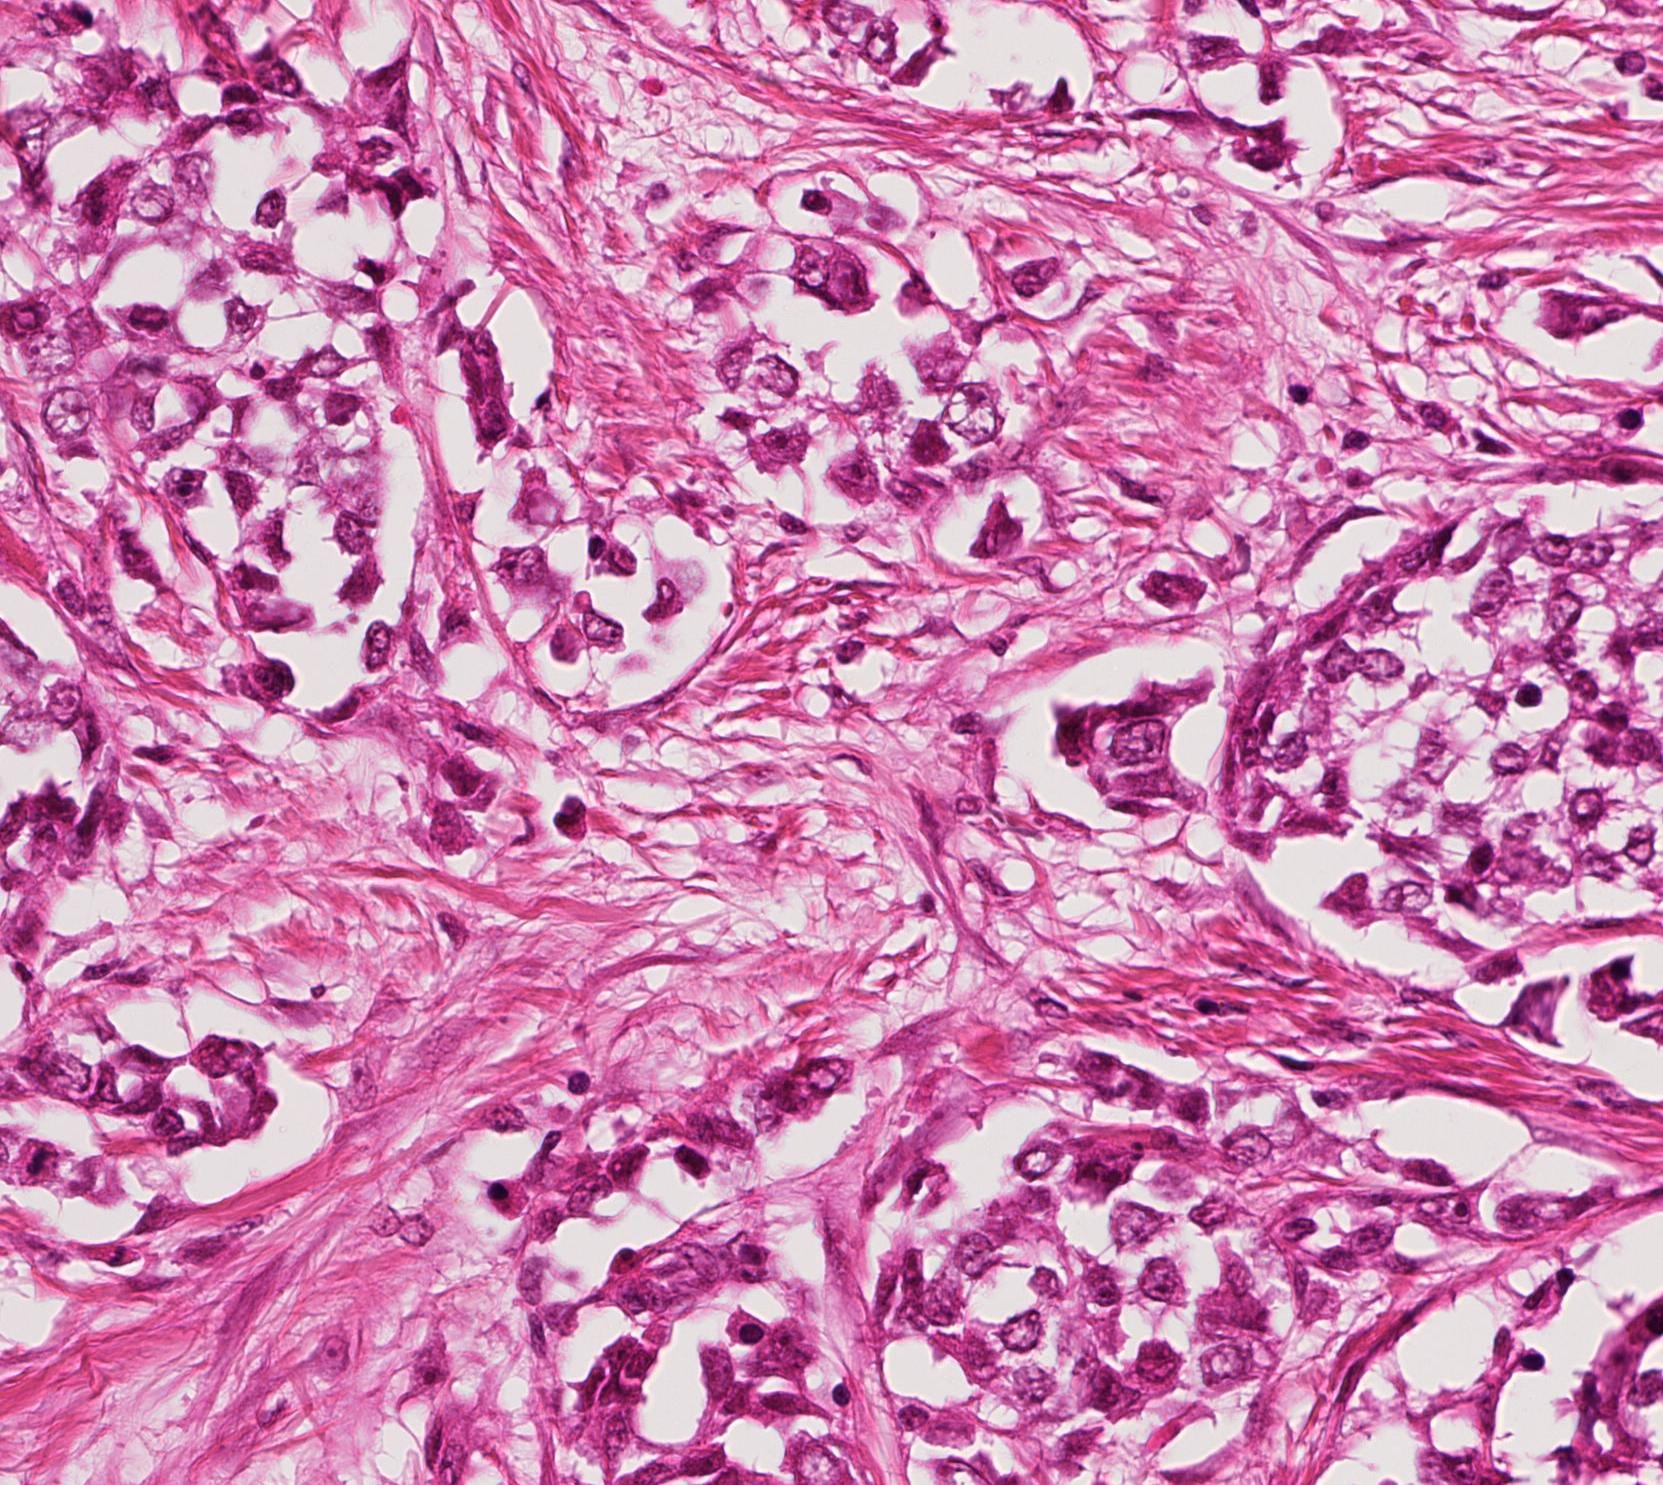mitosis: (0, 1135, 59, 1195)
